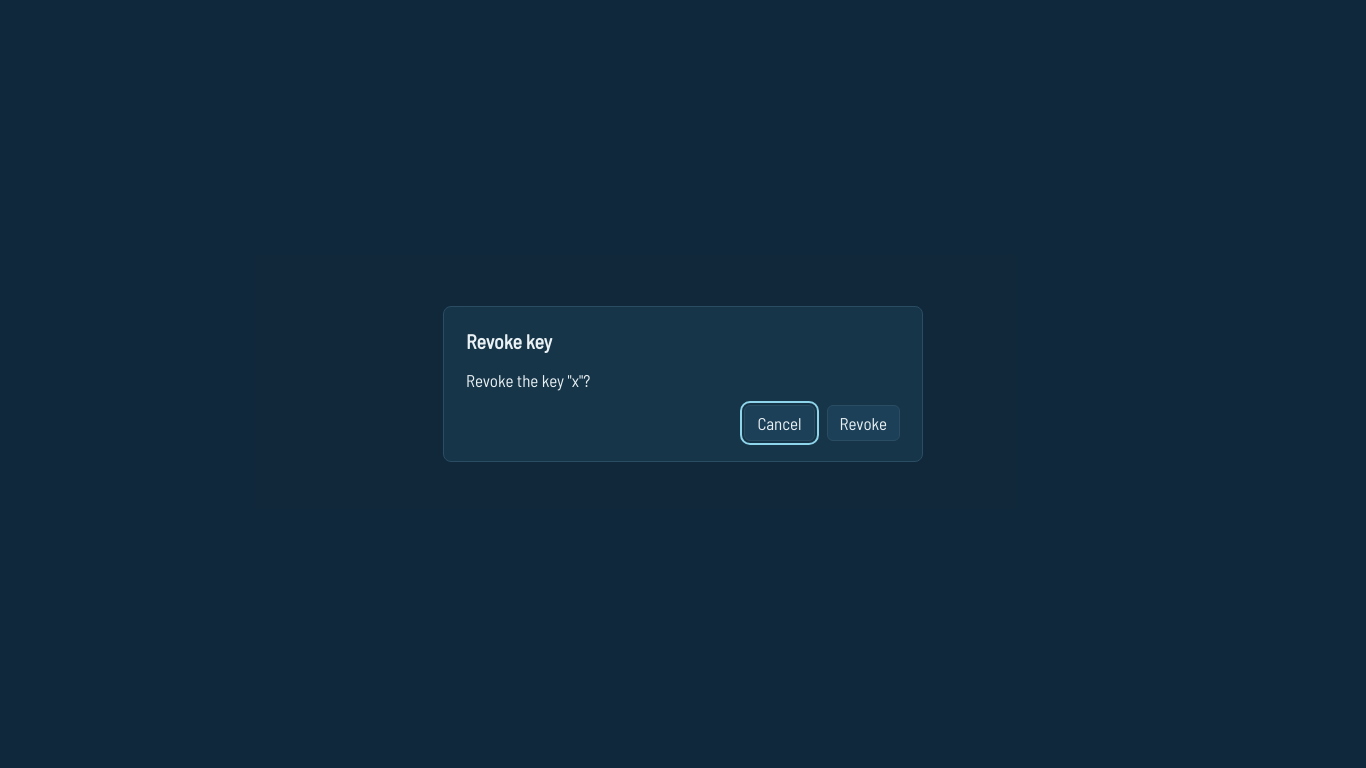
Test: ActionDialog › sends nothing when the input is not acceptable
Click the button "Revoke" at (863, 423), box 826,404 -> 900,441
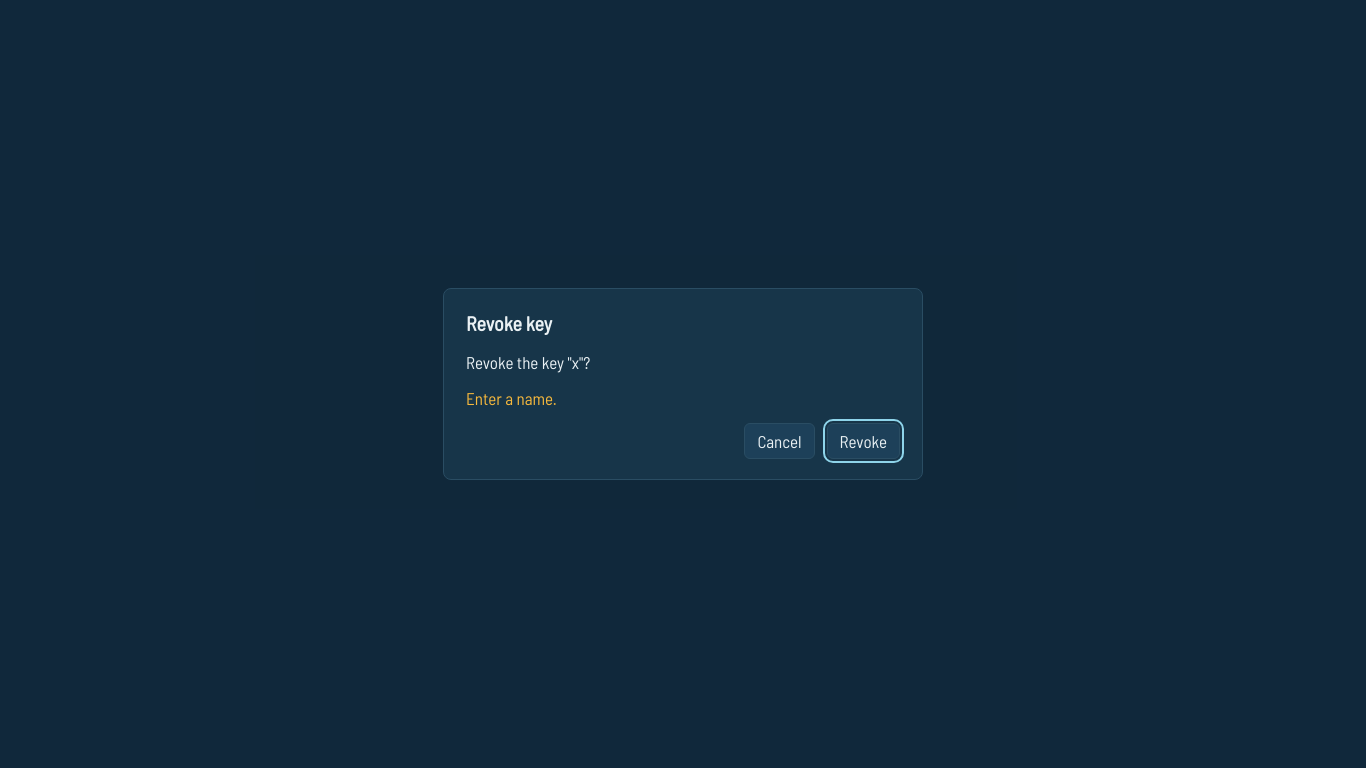
Expected: the message reads "Enter a name.", 466,388 -> 557,408
